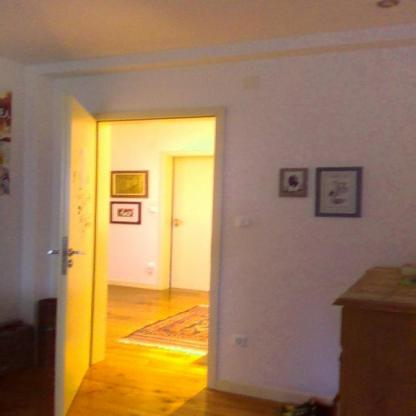door: (54, 93, 232, 416)
